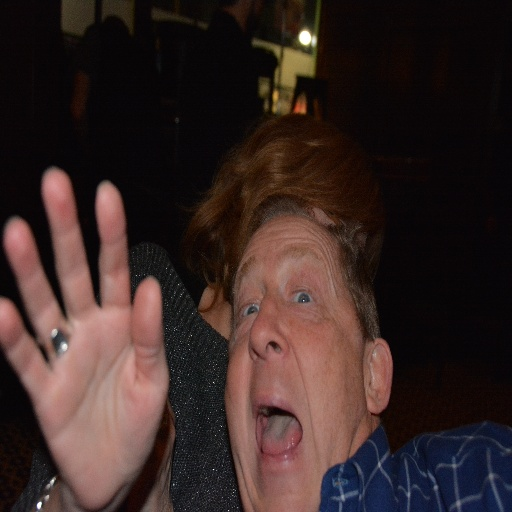hand: (0, 165, 169, 511)
